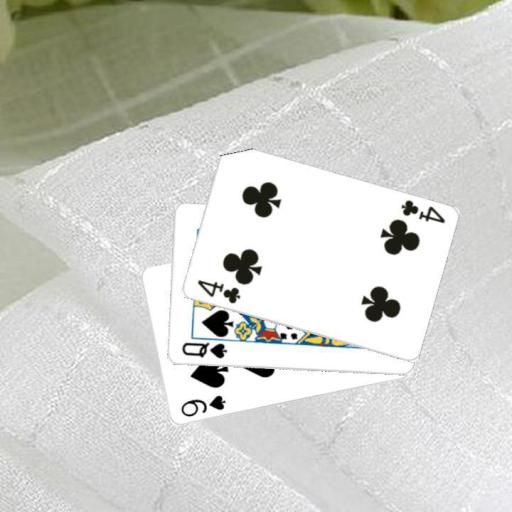4C: (397, 197, 446, 225), (193, 277, 241, 305)
9S: (177, 392, 228, 419)
QS: (179, 339, 229, 361)
